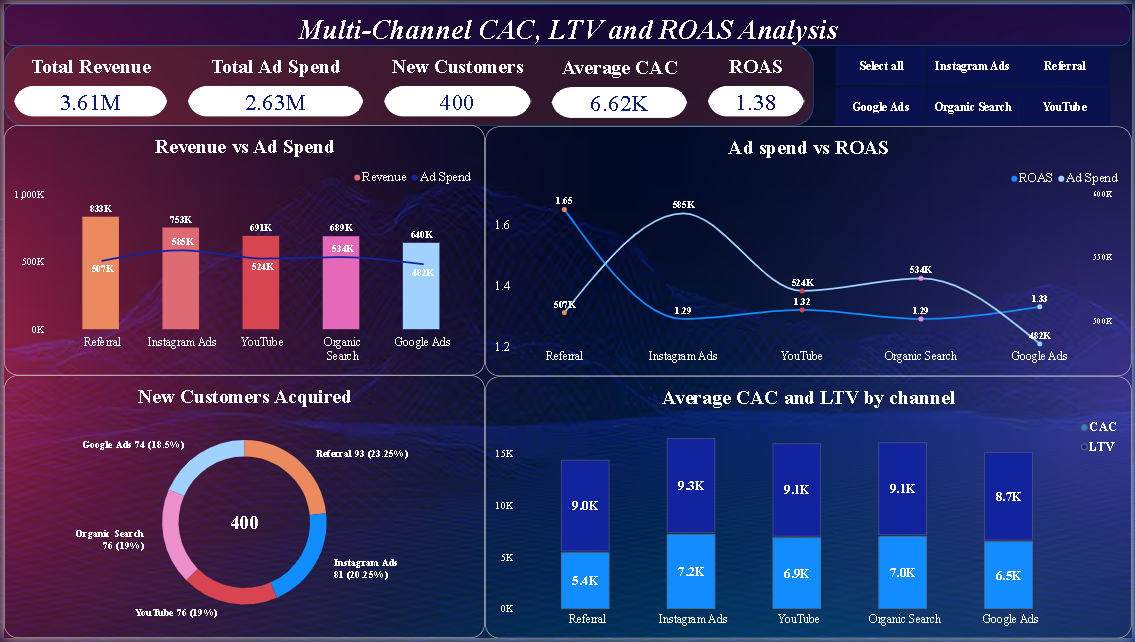

This screenshot's page, from the dashboard's own definition file:
{"tool":"powerbi","page":{"name":"Page 1","canvas":[1920,1080],"ordinal":0},"visuals":[{"type":"shape","box":[0,0,1917.4,71.7],"z":0},{"type":"shape","box":[0,69.6,1378.3,137],"z":1000},{"type":"cardVisual","title":"ROAS ","fields":{"Data":["Avg(ROAS( return on ad spend).ROAS)"]},"box":[1180.4,69.6,198.1,137.6],"z":2000},{"type":"lineStackedColumnComboChart","title":"Revenue vs Ad Spend ","fields":{"Category":["ROAS( return on ad spend).channel"],"Y":["Sum(ROAS( return on ad spend).TotalRevenue)"],"Y2":["Sum(ROAS( return on ad spend).TotalAdSpend)"]},"box":[0,207,818.8,425.5],"z":3000},{"type":"cardVisual","title":"New Customers","fields":{"Data":["Sum(cac.TotalCustomersAcquired)"]},"box":[630.4,69.6,284.3,137.6],"z":6000},{"type":"lineChart","title":"Ad spend vs ROAS ","fields":{"Category":["ltv.channel"],"Y":["Sum(ROAS( return on ad spend).ROAS)"],"Y2":["Sum(ROAS( return on ad spend).TotalAdSpend)"]},"box":[818.9,209.4,1100,424.5],"z":7000},{"type":"cardVisual","title":"Average CAC","fields":{"Data":["Avg(cac.CAC)"]},"box":[915.2,71.7,266,137.6],"z":9000},{"type":"slicer","fields":{"Values":["cac.channel"]},"box":[1378.3,56.5,539.1,167.4],"z":10000},{"type":"donutChart","title":"New Customers Acquired","fields":{"Category":["ltv.channel"],"Y":["Sum(ltv.TotalCustomersAcquired)"]},"box":[0,632.2,818.6,447.5],"z":11000},{"type":"textbox","box":[0,0,1918.9,86.8],"z":12000},{"type":"cardVisual","title":"Total Ad Spend","fields":{"Data":["Sum(ROAS( return on ad spend).TotalAdSpend)"]},"box":[295.7,69.6,333.8,137.6],"z":13000},{"type":"cardVisual","title":"Total Revenue","fields":{"Data":["Sum(ROAS( return on ad spend).TotalRevenue)"]},"box":[0,69.6,295.3,137.6],"z":14000},{"type":"columnChart","title":"Average CAC and LTV by channel","fields":{"Category":["ltv.channel"],"Y":["Sum(cac.CAC)","Sum(ltv.AverageLTV_AllAcquired)"]},"box":[818.9,634,1100,445.3],"z":14001}]}

Visuals, with their boxes in screenshot pixels (x1, y1, x2, y2), scaled from the page's 1920x1080 canvas onto the 1135x642 screenshot:
shape: pyautogui.locateOnScreen(0, 0, 1133, 43)
shape: pyautogui.locateOnScreen(0, 41, 815, 123)
"ROAS " cardVisual: pyautogui.locateOnScreen(698, 41, 815, 123)
"Revenue vs Ad Spend " lineStackedColumnComboChart: pyautogui.locateOnScreen(0, 123, 484, 376)
"New Customers" cardVisual: pyautogui.locateOnScreen(373, 41, 541, 123)
"Ad spend vs ROAS " lineChart: pyautogui.locateOnScreen(484, 124, 1134, 377)
"Average CAC" cardVisual: pyautogui.locateOnScreen(541, 43, 698, 124)
slicer - cac.channel: pyautogui.locateOnScreen(815, 34, 1133, 133)
"New Customers Acquired" donutChart: pyautogui.locateOnScreen(0, 376, 484, 641)
textbox: pyautogui.locateOnScreen(0, 0, 1134, 52)
"Total Ad Spend" cardVisual: pyautogui.locateOnScreen(175, 41, 372, 123)
"Total Revenue" cardVisual: pyautogui.locateOnScreen(0, 41, 175, 123)
"Average CAC and LTV by channel" columnChart: pyautogui.locateOnScreen(484, 377, 1134, 641)
